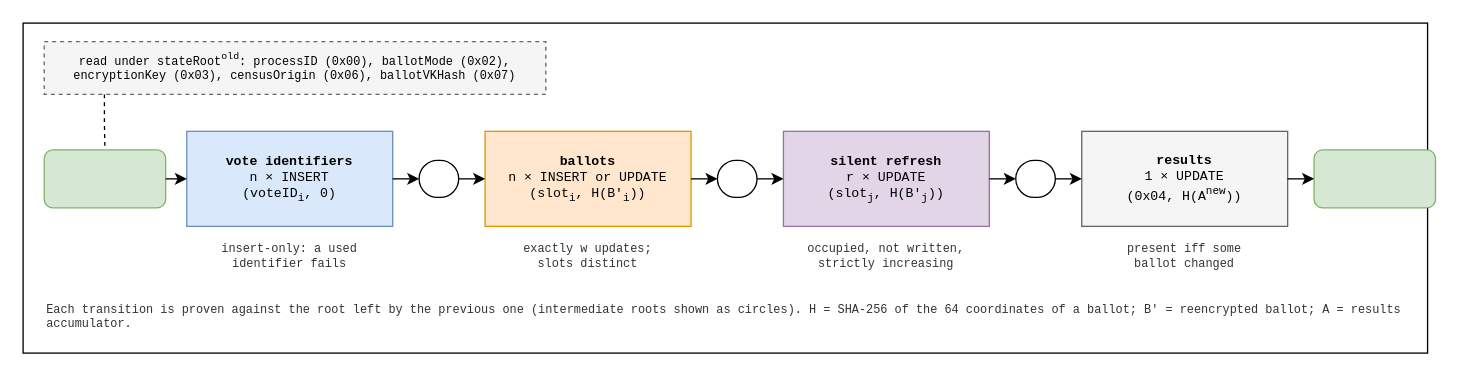
The diagram is 1459 pixels wide and 376 high, and some of its shapes have lost their labels. The centre of each missing label's shape, as x and y in pixels:
stateRoot new: the point at 1374,178
stateRoot old: the point at 104,178
